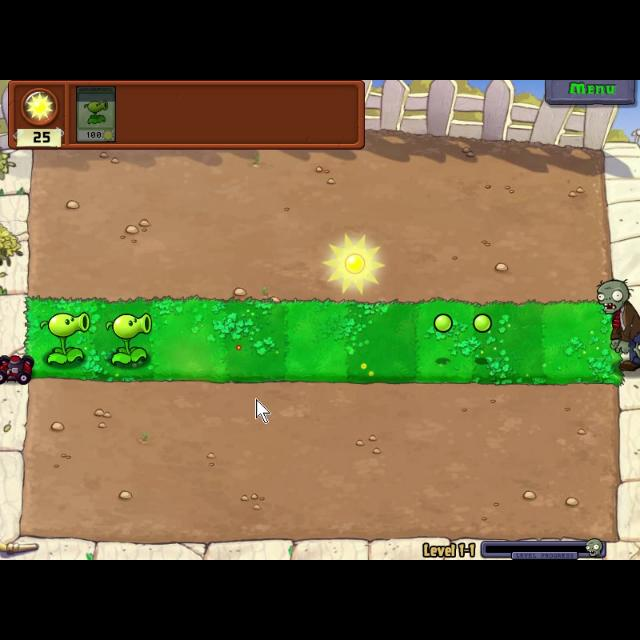Garden: (24, 296, 630, 390)
Menu Button: (546, 80, 636, 104)
Mower: (0, 349, 38, 388)
Peashooter: (74, 82, 116, 144)
Peashooter Seed: (102, 310, 158, 372), (37, 308, 91, 368)
Seed Panel: (6, 80, 368, 154)
Sun: (320, 230, 394, 300)
Zombie: (592, 274, 640, 372)
